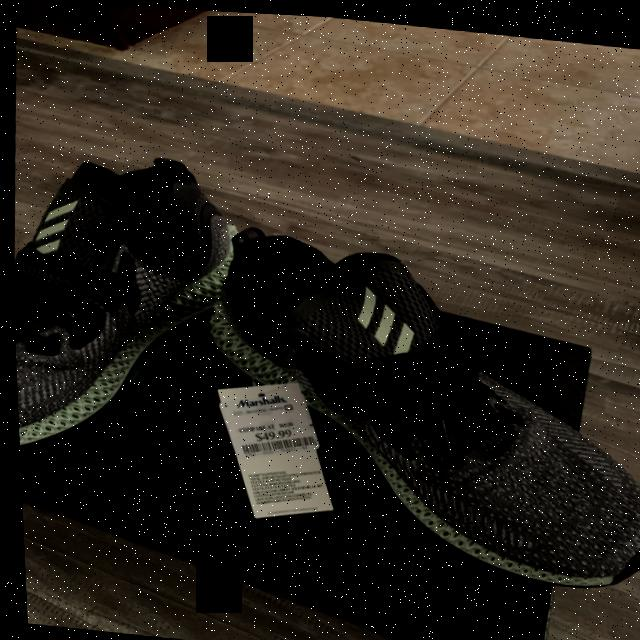shoes: (183, 207, 640, 603), (5, 131, 266, 495)
